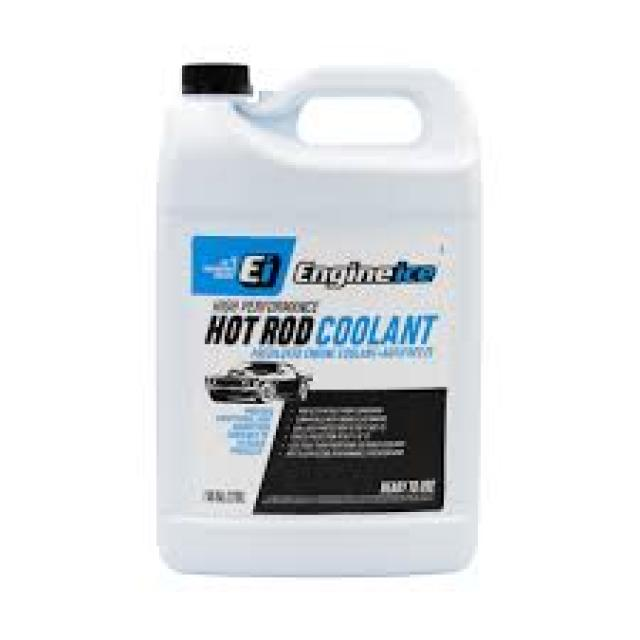coolant: (149, 48, 488, 592)
